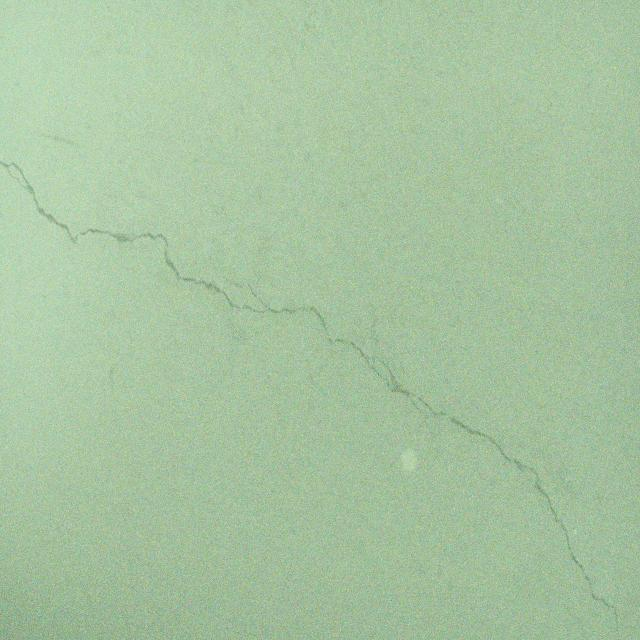crack: (0, 160, 621, 640), (550, 587, 589, 640)
